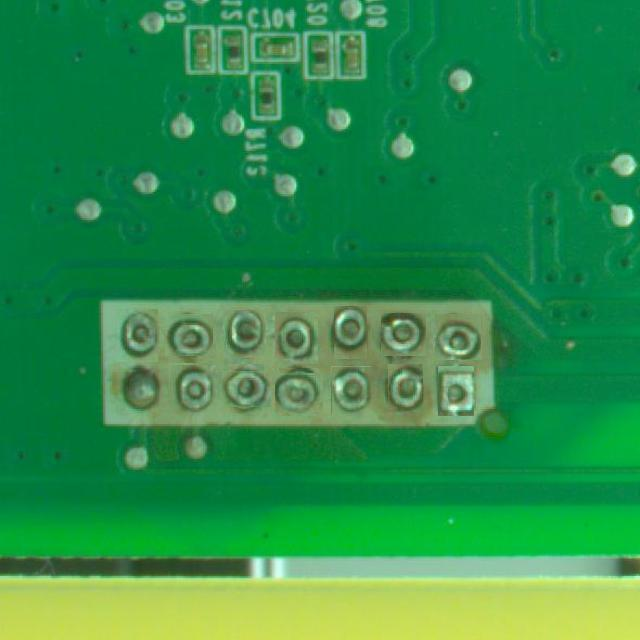lack_of_part: (169, 364, 218, 414), (275, 312, 318, 364), (116, 309, 158, 362), (435, 314, 482, 360), (223, 309, 266, 358), (167, 312, 212, 358), (381, 313, 426, 357), (277, 370, 321, 414), (331, 366, 371, 414), (225, 368, 267, 411), (438, 366, 474, 416), (334, 306, 367, 359), (388, 364, 423, 412)
